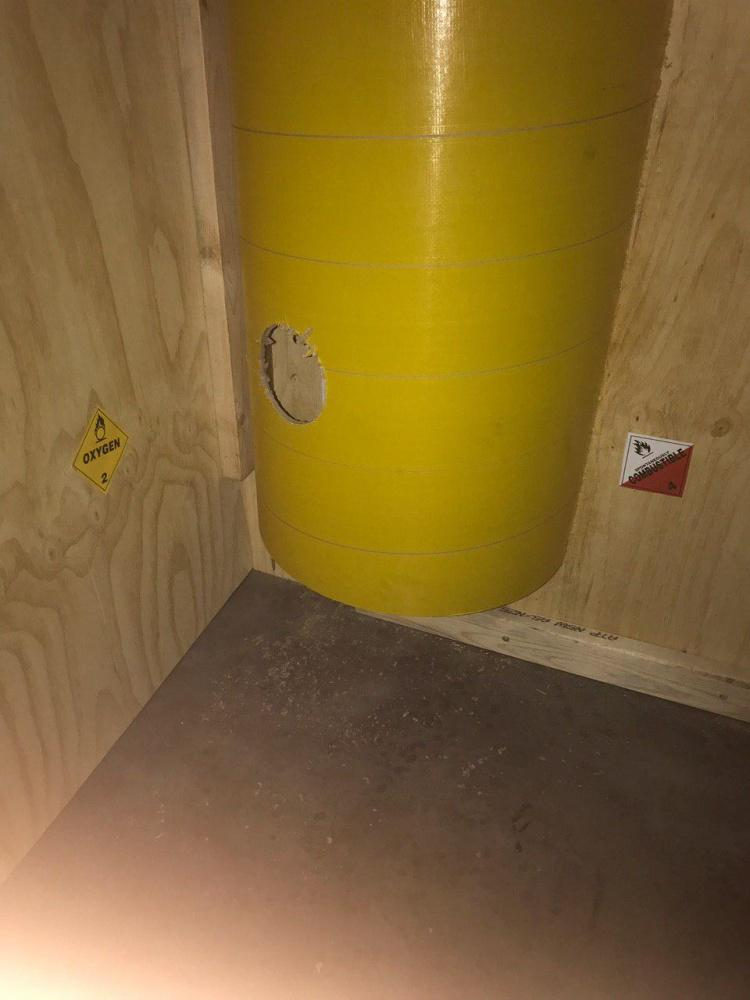oxidizer: (73, 404, 131, 497)
spontaneously-combustible: (621, 433, 693, 497)
